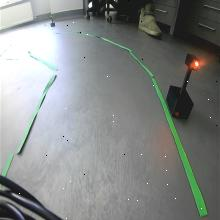red: (184, 53, 202, 72)
